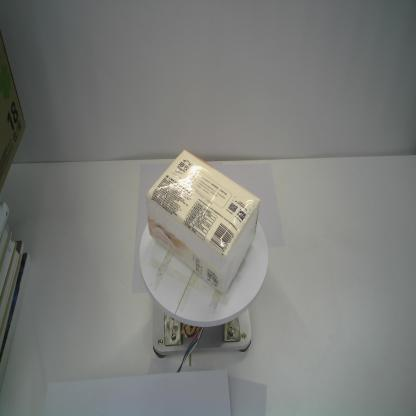Tissue: (145, 149, 261, 295)
